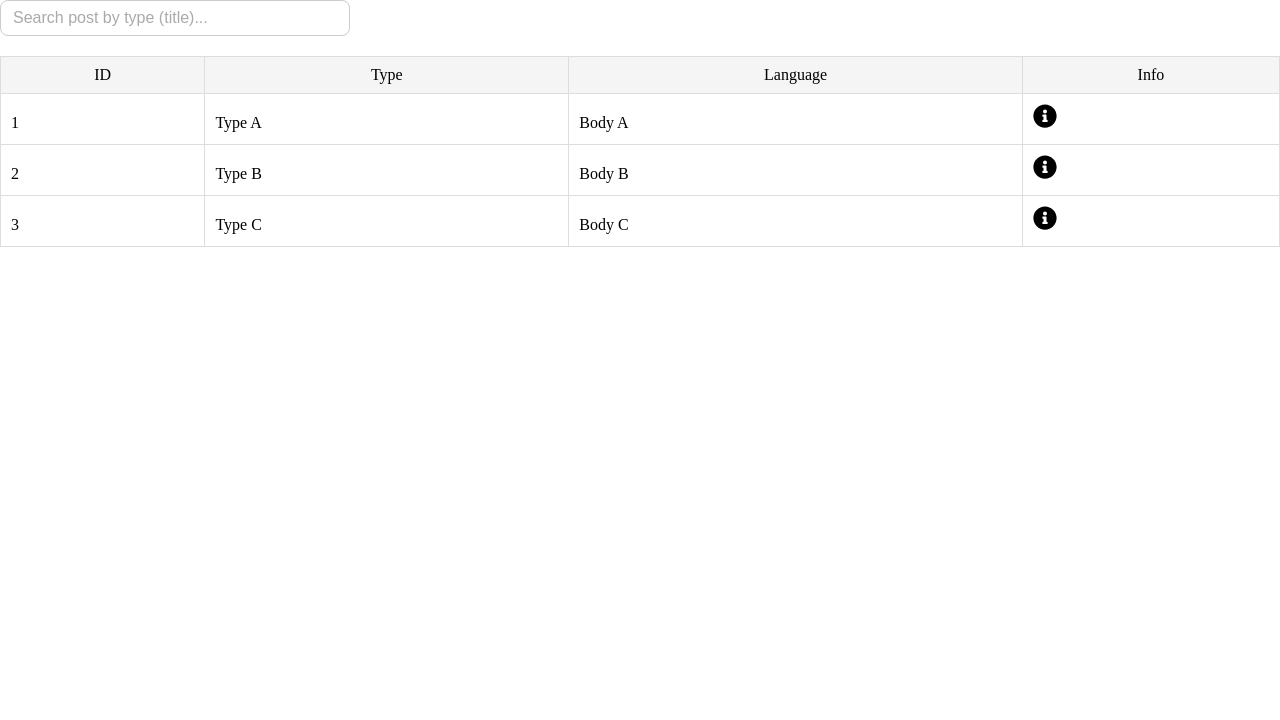
Test: Home component without passing posts prop › opens and closes modal on info button click
Click the button named "info": coordinates (1045, 119) [1033,104,1057,134]
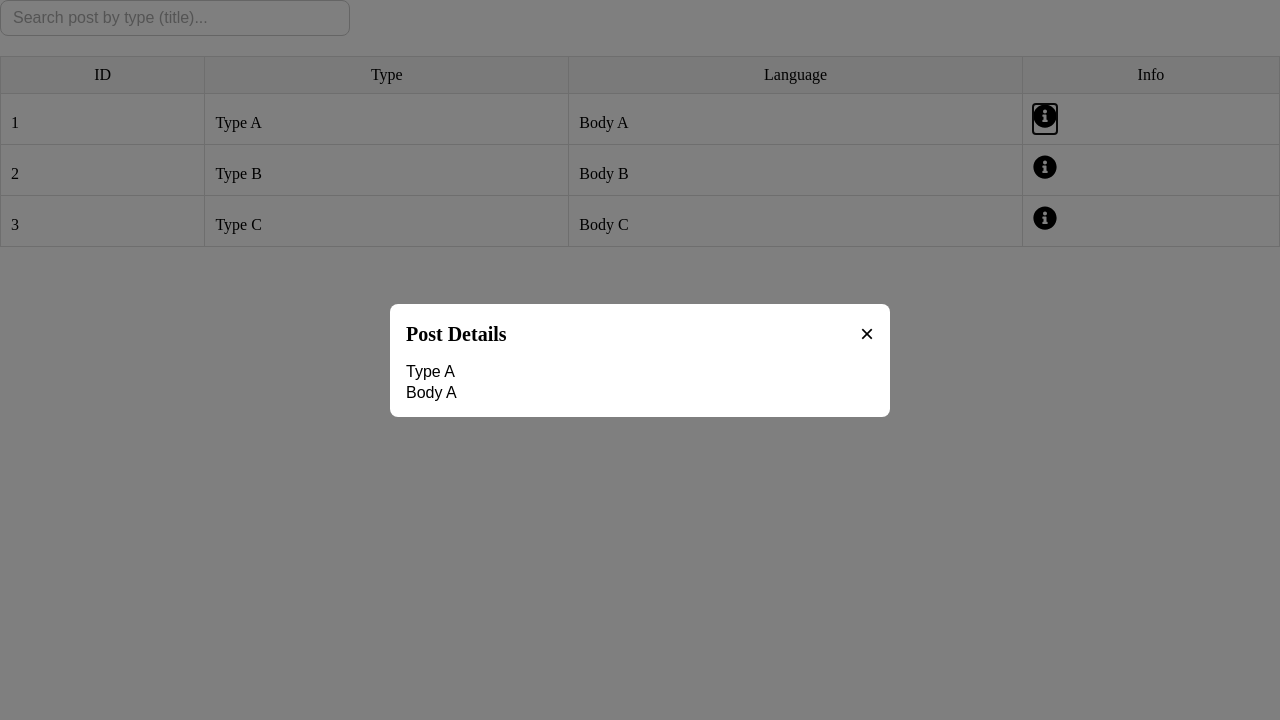
Now the text "Type A" is shown, box [406,364,455,380]
Now the text "Body A" is shown, box [406,384,457,400]
